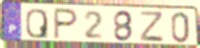0: (170, 11, 191, 44)
2: (83, 11, 105, 40)
8: (113, 10, 134, 43)
P: (52, 7, 79, 41)
Q: (25, 7, 50, 39)
Z: (139, 10, 165, 44)
